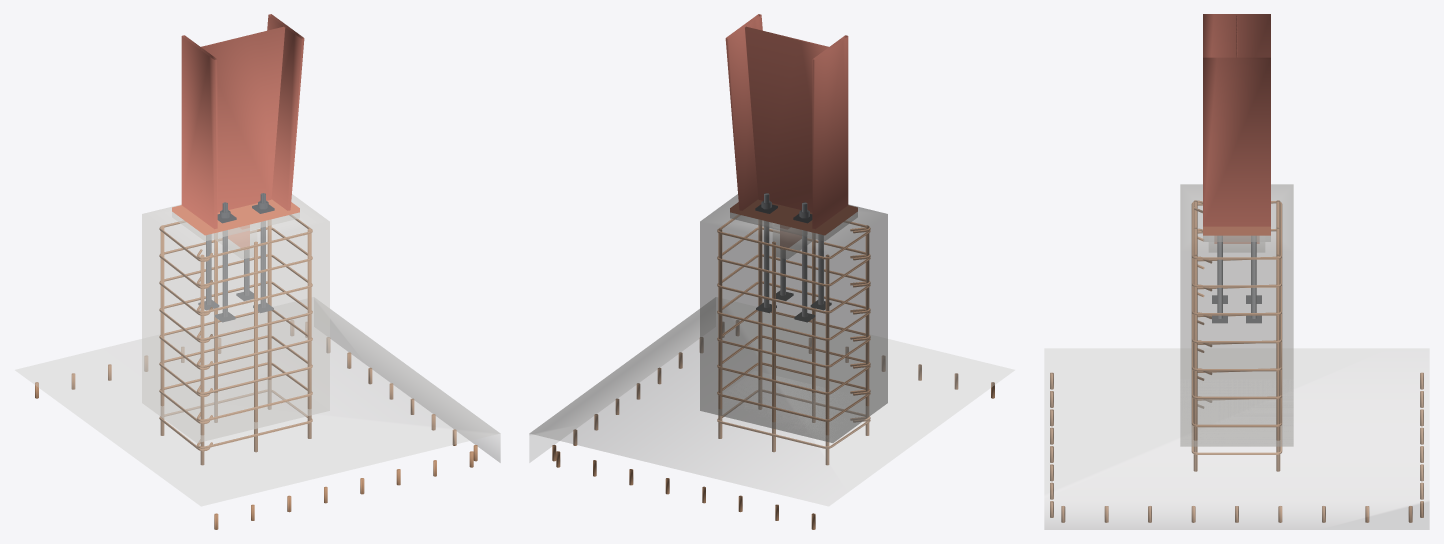
Rendered from base_side.glb.
3 renders of one model, left to right at view 1: azimuth 30°, elevation 25°; view 2: azimuth 150°, elevation 25°; view 3: azimuth 270°, elevation 25°, orthographic. The views are drawn at different scales.
Visible parts, largest first — view 1: concrete, frame, rebar, bolt, plate; view 2: concrete, frame, rebar, bolt, plate; view 3: concrete, frame, rebar, bolt, plate.
Boxes of the visible parts, box(x1,y1,x2,y2) form: concrete: box(15, 194, 500, 506); frame: box(181, 14, 304, 229); rebar: box(35, 214, 477, 529); bolt: box(198, 193, 274, 322); plate: box(172, 199, 299, 249); concrete: box(529, 194, 1014, 506); frame: box(725, 14, 848, 229); rebar: box(552, 214, 994, 529); bolt: box(755, 193, 831, 322); plate: box(730, 199, 857, 249); concrete: box(1044, 184, 1429, 529); frame: box(1203, 14, 1270, 226); rebar: box(1050, 200, 1423, 522); bolt: box(1212, 236, 1261, 323); plate: box(1203, 226, 1270, 243).
Bounding box in the file's own units: 1.58 × 2 × 1.7.
